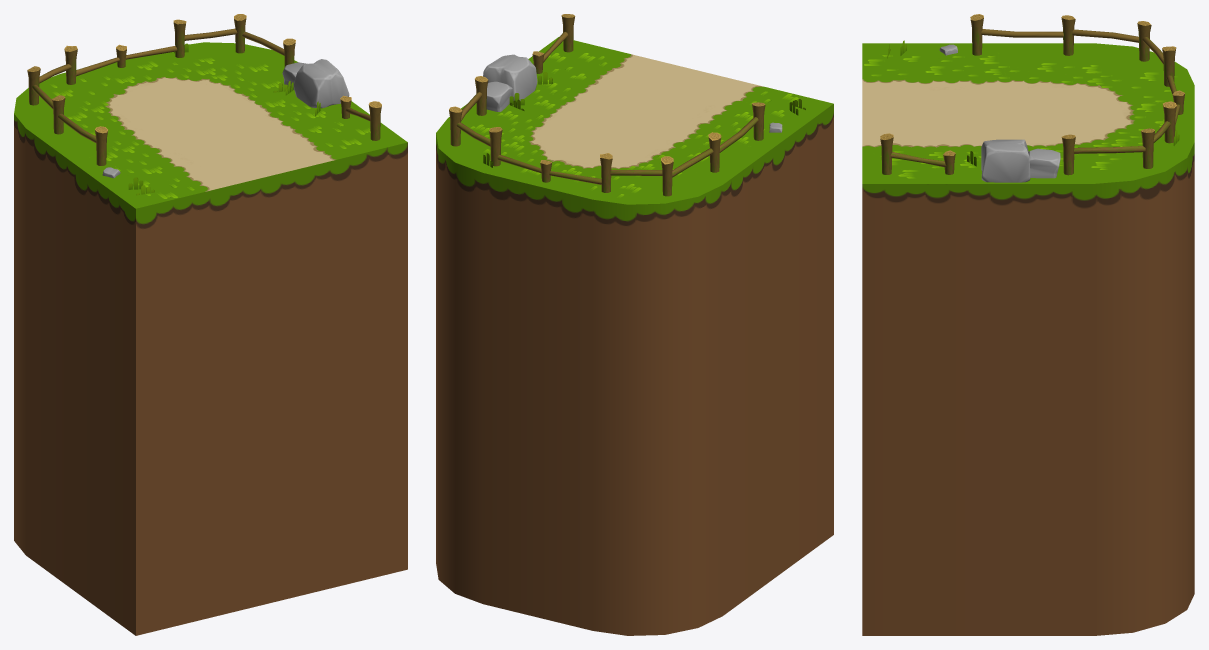
File: Plataforma Inicio.fbx
3 views of the same model, side by side, from view 1: azimuth 30°, elevation 25°; view 2: azimuth 150°, elevation 25°; view 3: azimuth 270°, elevation 25° (orthographic). The views are drawn at different scales.
Parts seen in each view (by area): view 1: Plataforma Inicio.001, Cube.073, Cylinder.045; view 2: Plataforma Inicio.001, Cube.073, Cube.074, Cylinder.045; view 3: Plataforma Inicio.001, Cube.073, Cube.074, Cylinder.058, Cylinder.052, Cylinder.050.
Part boxes in pixels (x1,y1,x2,y2): Plataforma Inicio.001: [14, 42, 407, 635]; Cube.073: [293, 59, 349, 108]; Cylinder.045: [76, 46, 177, 76]; Plataforma Inicio.001: [436, 36, 833, 635]; Cube.073: [483, 54, 537, 100]; Cube.074: [486, 81, 512, 111]; Cylinder.045: [497, 154, 601, 184]; Plataforma Inicio.001: [862, 43, 1194, 635]; Cube.073: [981, 139, 1030, 182]; Cube.074: [1028, 148, 1060, 178]; Cylinder.058: [981, 29, 1063, 37]; Cylinder.052: [1074, 146, 1145, 153]; Cylinder.050: [1061, 134, 1075, 175].
Bounding box in the file's own units: 1000 × 1624 × 1000.
